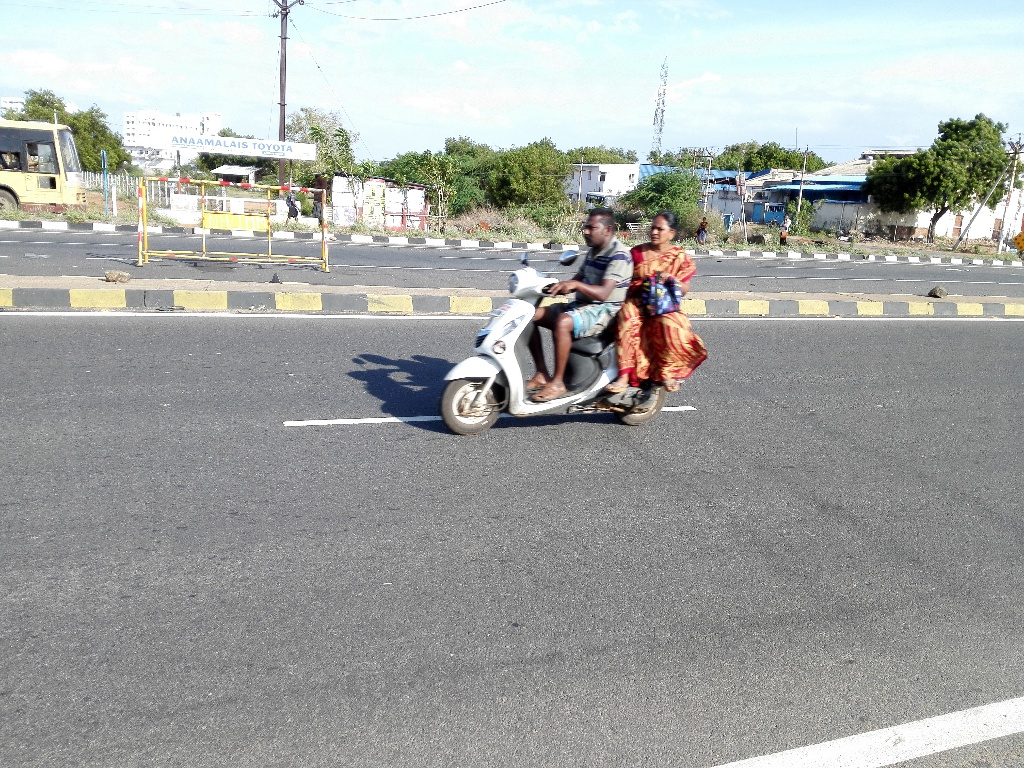biker: (426, 181, 720, 442)
nohelmet: (575, 200, 626, 256), (642, 200, 681, 261)
